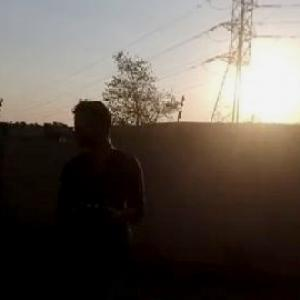follow: (48, 95, 150, 299)
